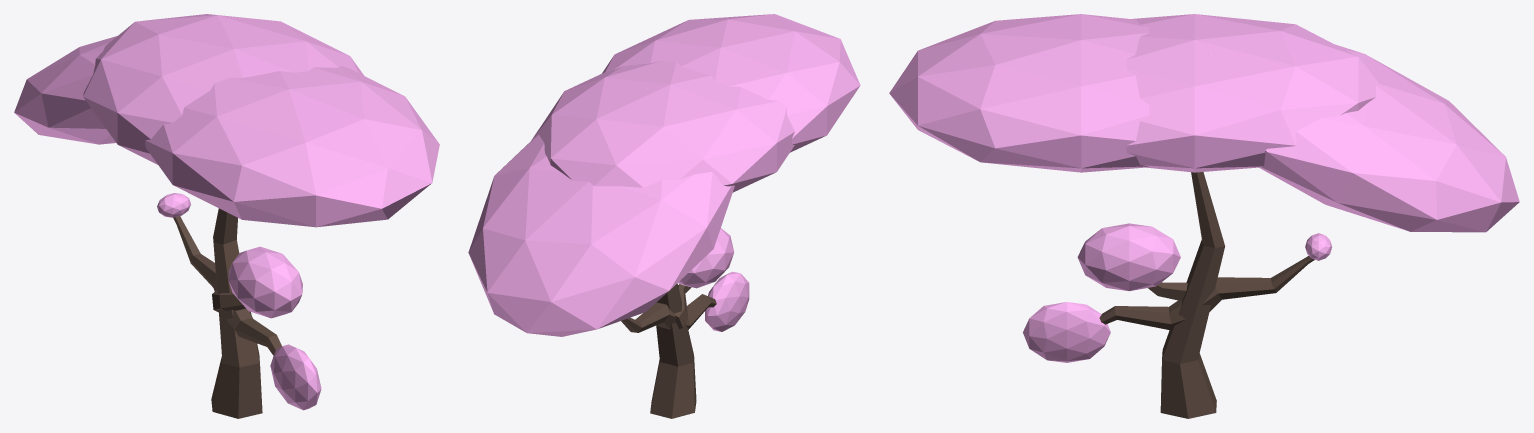
The model's file is Tree.fbx.
3 views of the same model, side by side, from view 1: azimuth 30°, elevation 25°; view 2: azimuth 150°, elevation 25°; view 3: azimuth 270°, elevation 25° (orthographic). The views are drawn at different scales.
Visible parts, largest first — view 1: polySurface9, polySurface1, polySurface10, polySurface2, polySurface8, polySurface6, polySurface5, polySurface3, polySurface4, polySurface7; view 2: polySurface10, polySurface1, polySurface9, polySurface2, polySurface6, polySurface8, polySurface3, polySurface5, polySurface7; view 3: polySurface9, polySurface1, polySurface10, polySurface2, polySurface8, polySurface6, polySurface3, polySurface5, polySurface4.
Part boxes in pixels (x1,y1,x2,y2): polySurface9: (145, 66, 439, 227); polySurface1: (83, 14, 364, 164); polySurface10: (14, 36, 247, 144); polySurface2: (211, 208, 262, 418); polySurface8: (228, 246, 302, 318); polySurface6: (270, 344, 321, 410); polySurface5: (226, 308, 281, 355); polySurface3: (173, 216, 217, 291); polySurface4: (157, 193, 190, 217); polySurface7: (212, 290, 245, 312); polySurface10: (468, 87, 734, 336); polySurface1: (531, 60, 794, 192); polySurface9: (602, 14, 860, 152); polySurface2: (650, 283, 696, 418); polySurface6: (705, 271, 749, 331); polySurface8: (678, 228, 734, 288); polySurface3: (621, 302, 676, 332); polySurface5: (686, 294, 716, 329); polySurface7: (674, 284, 691, 328); polySurface9: (889, 14, 1149, 172); polySurface1: (1126, 14, 1378, 172); polySurface10: (1208, 44, 1519, 232); polySurface2: (1160, 172, 1225, 418); polySurface8: (1077, 223, 1180, 291); polySurface6: (1023, 302, 1110, 362); polySurface3: (1202, 256, 1314, 311); polySurface5: (1099, 300, 1185, 330); polySurface4: (1305, 233, 1331, 260).
Bounding box in the file's own units: 9.68 × 14.13 × 22.02.
